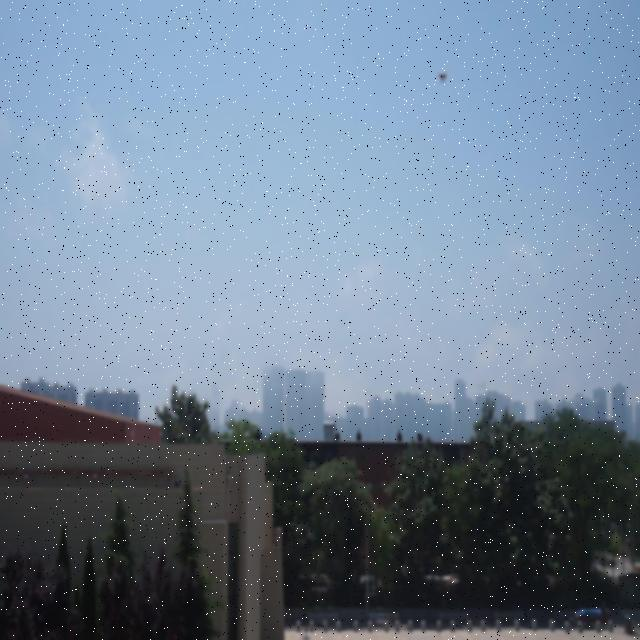UAV: (436, 71, 448, 84)
